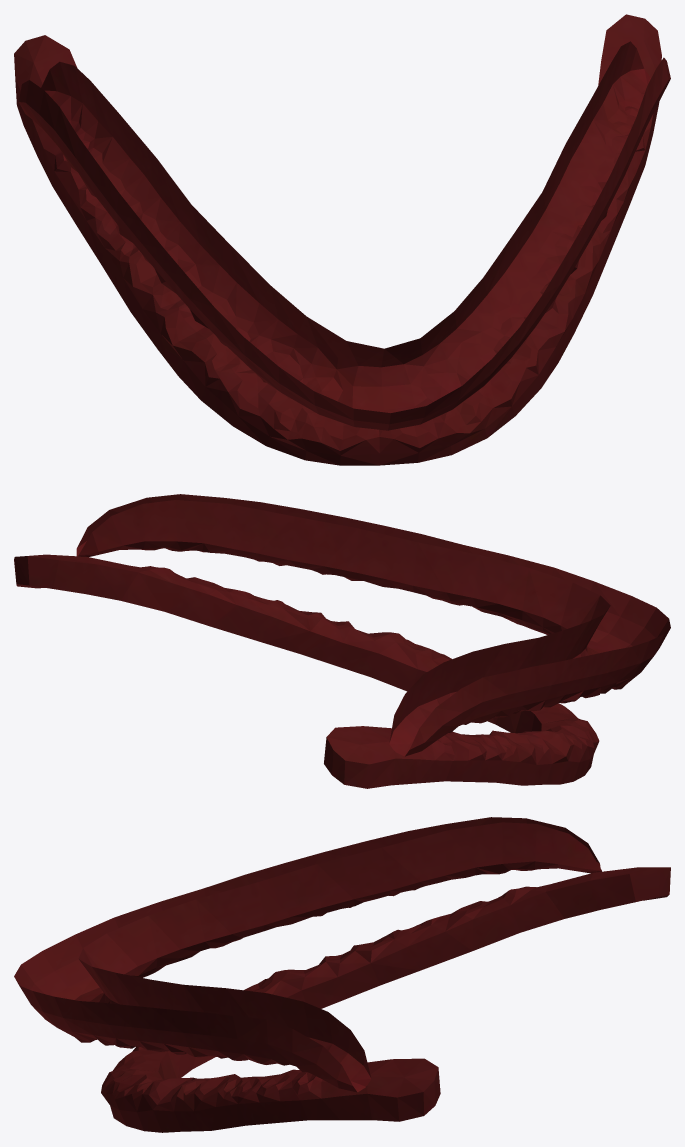
File: mesh2.dat.obj
The picture shows the model from 3 angles, top to bottom: view 1: azimuth 30°, elevation 25°; view 2: azimuth 150°, elevation 25°; view 3: azimuth 270°, elevation 25°; orthographic projection. The views are drawn at different scales.
Parts seen in each view (by area): view 1: Body_Gums; view 2: Body_Gums; view 3: Body_Gums.
Boxes of the visible parts, box(x1,y1,x2,y2) form: Body_Gums: box(14, 14, 670, 465); Body_Gums: box(14, 494, 670, 788); Body_Gums: box(14, 817, 670, 1132).
Bounding box in the file's own units: 1.03 × 0.4338 × 1.14.
1 material, 1 textured.
